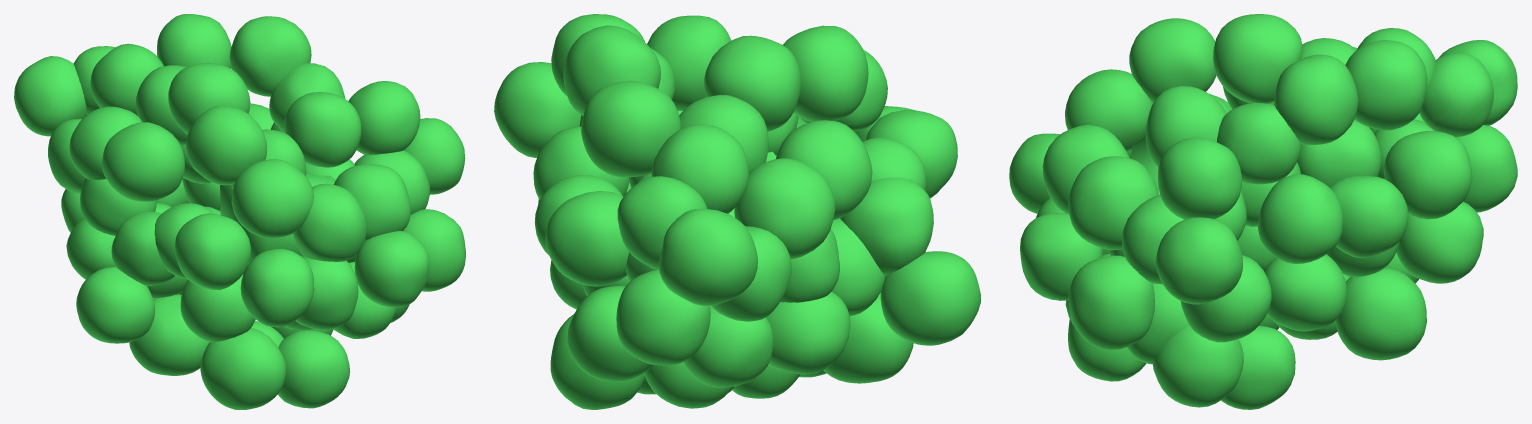
Rendered from Uvasss2.fbx.
3 views of the same model, side by side, from view 1: azimuth 30°, elevation 25°; view 2: azimuth 150°, elevation 25°; view 3: azimuth 270°, elevation 25° (orthographic). The views are drawn at different scales.
Parts seen in each view (by area): view 1: Cube.017, Cube.003, Cube.012, Cube.027, Cube.043, Cube.010, Cube.033, Cube.016, Cube.011, Cube.025, Cube.020, Cube.035 (+29 smaller); view 2: Cube.035, Cube.043, Cube.052, Cube.009, Cube.071, Cube.058, Cube.028, Cube.027, Cube.002, Cube.031, Cube.045, Cube.033 (+23 smaller); view 3: Cube.068, Cube.019, Cube.040, Cube.045, Cube.028, Cube.058, Cube.033, Cube.052, Cube.018, Cube.044, Cube.027, Cube.023 (+27 smaller).
Boxes of the visible parts, x1,y1,x2,y2 form: Cube.017: [200, 327, 286, 409]; Cube.003: [102, 122, 184, 201]; Cube.012: [231, 159, 314, 237]; Cube.027: [186, 106, 266, 185]; Cube.043: [76, 267, 154, 343]; Cube.010: [175, 213, 250, 290]; Cube.033: [229, 16, 311, 96]; Cube.016: [354, 231, 429, 307]; Cube.011: [240, 248, 314, 327]; Cube.025: [284, 92, 361, 167]; Cube.020: [278, 330, 350, 408]; Cube.035: [14, 56, 86, 136]; Cube.035: [659, 208, 757, 305]; Cube.043: [880, 251, 980, 345]; Cube.052: [581, 80, 681, 177]; Cube.009: [734, 158, 835, 259]; Cube.071: [616, 269, 710, 365]; Cube.058: [545, 191, 628, 286]; Cube.028: [704, 35, 801, 131]; Cube.027: [783, 25, 868, 121]; Cube.002: [839, 177, 933, 275]; Cube.031: [651, 124, 749, 213]; Cube.045: [494, 62, 580, 157]; Cube.033: [563, 25, 660, 115]; Cube.068: [1335, 268, 1426, 360]; Cube.019: [1068, 255, 1154, 349]; Cube.040: [1258, 174, 1343, 263]; Cube.045: [1155, 217, 1242, 304]; Cube.028: [1213, 14, 1302, 103]; Cube.058: [1384, 130, 1472, 219]; Cube.033: [1274, 54, 1358, 144]; Cube.052: [1345, 40, 1427, 130]; Cube.018: [1068, 156, 1158, 250]; Cube.044: [1158, 137, 1241, 219]; Cube.027: [1129, 18, 1216, 103]; Cube.023: [1152, 325, 1243, 407].
Size of the model in its own units: 946 by 736 by 979.
